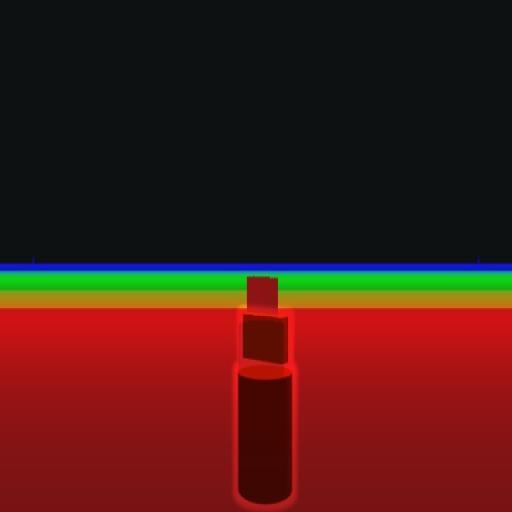buoy: (235, 308, 294, 504)
